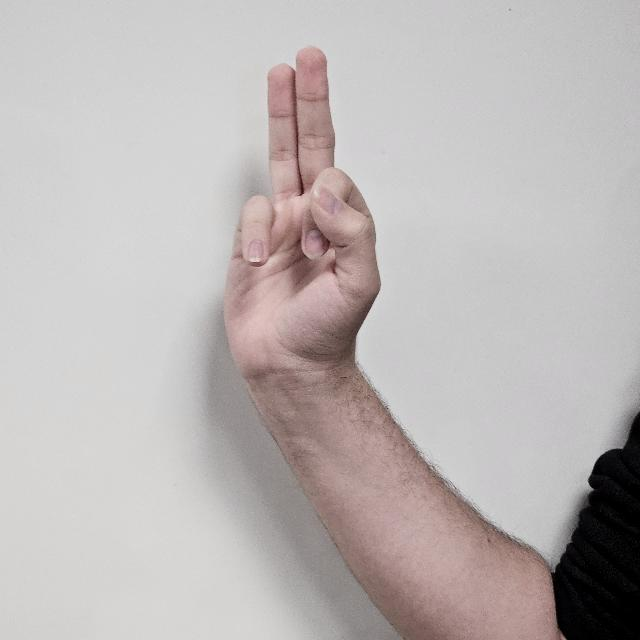R: (226, 46, 384, 392)
